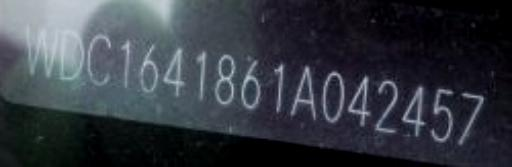letter: (21, 20, 61, 77), (235, 52, 269, 115), (285, 63, 317, 128), (131, 40, 163, 99), (455, 89, 487, 146), (160, 44, 190, 103), (84, 30, 114, 87), (57, 26, 85, 85), (401, 79, 427, 142), (315, 69, 343, 126), (375, 75, 399, 138), (348, 71, 374, 128), (112, 34, 136, 95), (430, 85, 454, 146), (213, 50, 235, 111), (188, 46, 210, 103), (266, 59, 288, 116)
